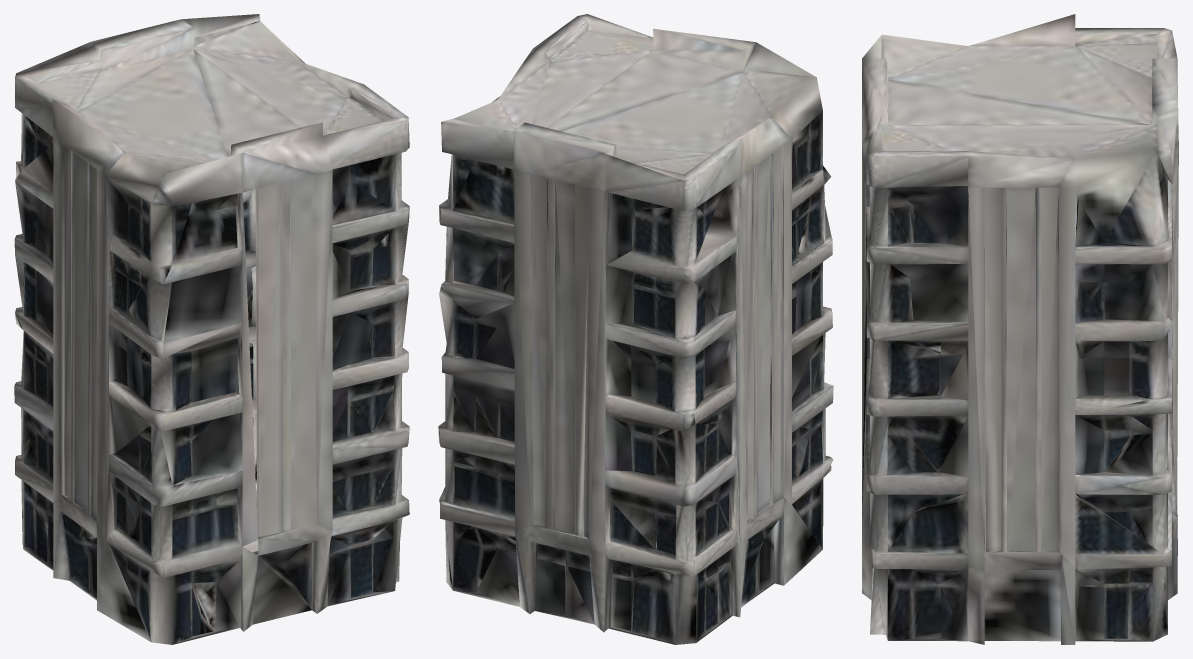
The model's file is 14-office-6-floors.glb.
The picture shows the model from 3 angles, left to right: view 1: azimuth 30°, elevation 25°; view 2: azimuth 150°, elevation 25°; view 3: azimuth 270°, elevation 25°; orthographic projection. The views are drawn at different scales.
Visible parts, largest first — view 1: geometry_0; view 2: geometry_0; view 3: geometry_0.
Boxes of the visible parts, x1,y1,x2,y2 form: geometry_0: (14, 14, 409, 644); geometry_0: (438, 14, 833, 644); geometry_0: (862, 14, 1178, 644).
Size of the model in its own units: 0.5488 by 0.9521 by 0.5494.
Materials: 1 (1 with a texture image).
